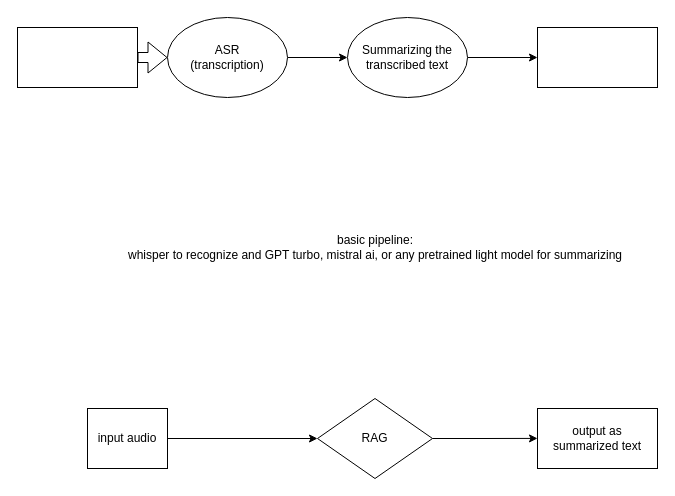
Image size: 675x496. Some labels were removed from this diagram. Each missing label, with the centre of its shape:
"patient audio" goes at point (77, 57).
"Summarized info as text" goes at point (597, 57).
